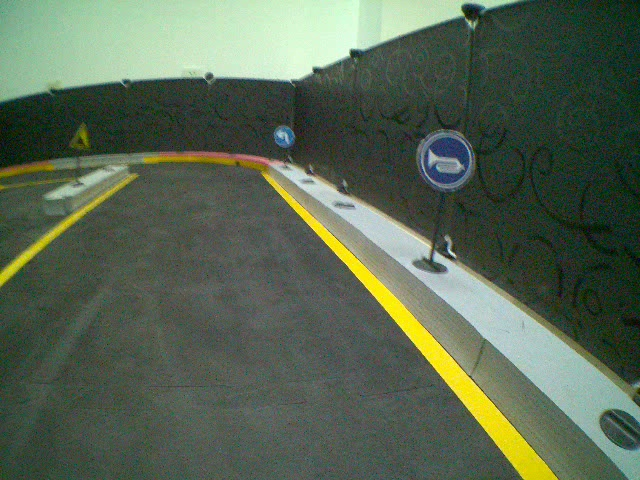fast: (67, 121, 91, 151)
horn: (412, 127, 477, 191)
turn: (273, 124, 295, 149)
